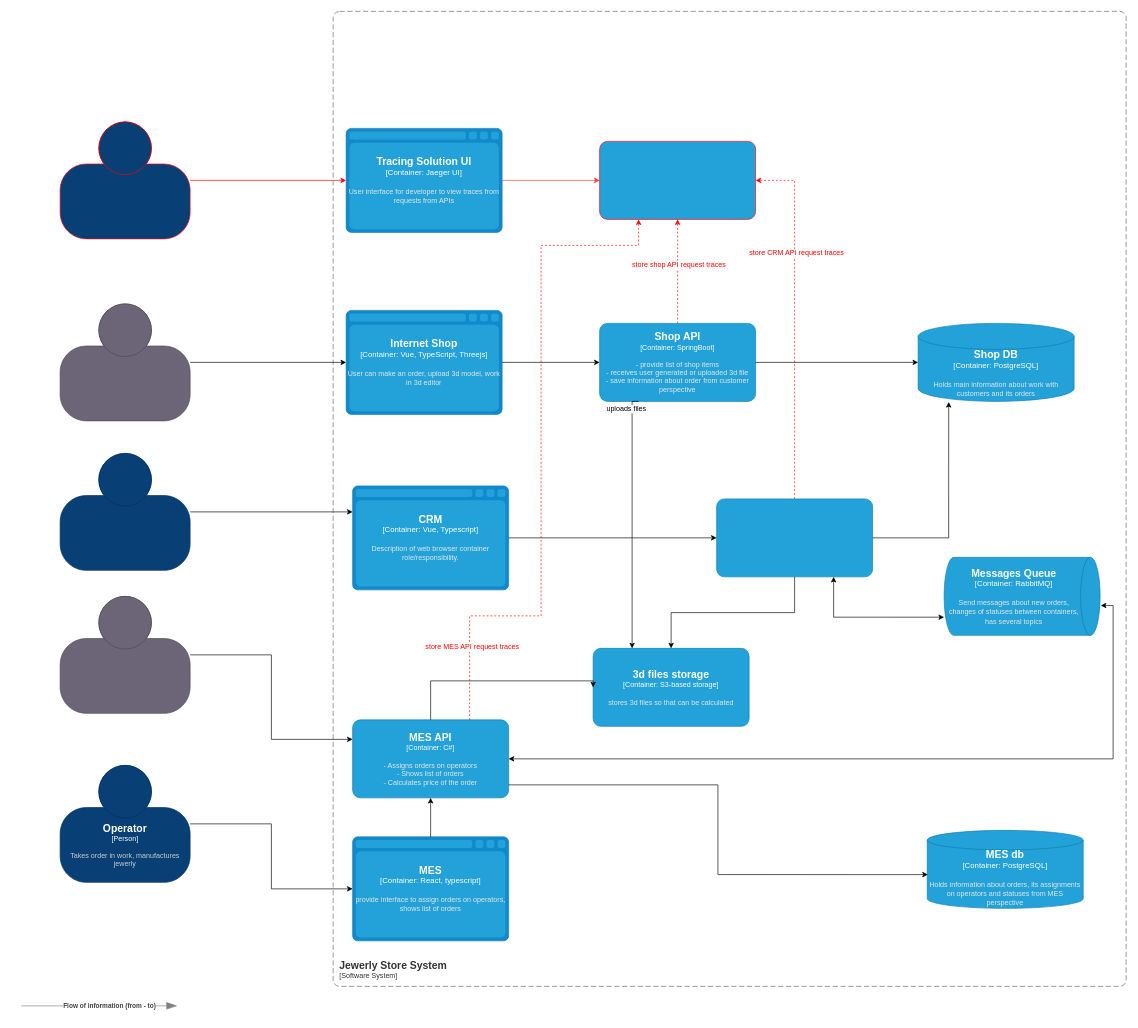
This 1138x1028 diagram has some shape labels left out. The shapes that lost their labels are listed below. From the top down, each one's centre as x and y in pixels, then its label:
At [124,180]: "Developer [Person] A person that tries to debug APIs".
At [677,180]: "Tracing Solution [Container: Jaeger] Retrieves traces from APIs".
At [124,362]: "Customer [Person] Description of external person.".
At [124,511]: "Seller [Person] Operates with order, confirms manufacturing for the user".
At [794,537]: "CRM API [Container: SpringBoot] Description of container role/responsibility.".
At [124,654]: "API user [Person] Description of external person.".
